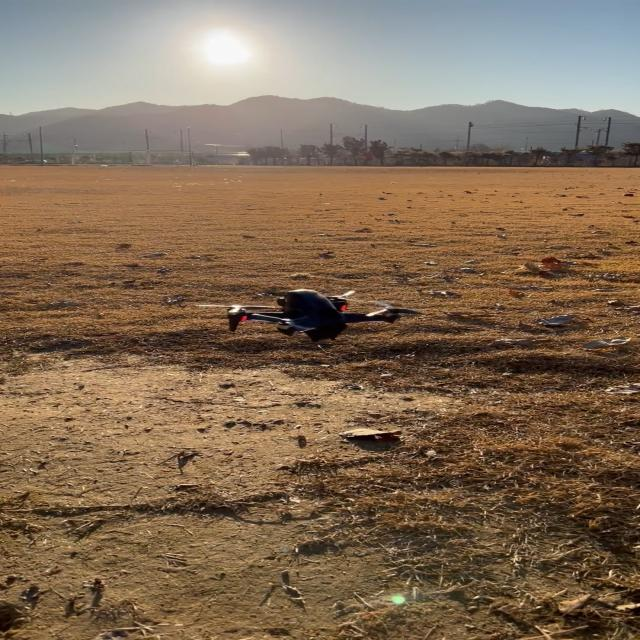drone: (193, 288, 421, 344)
